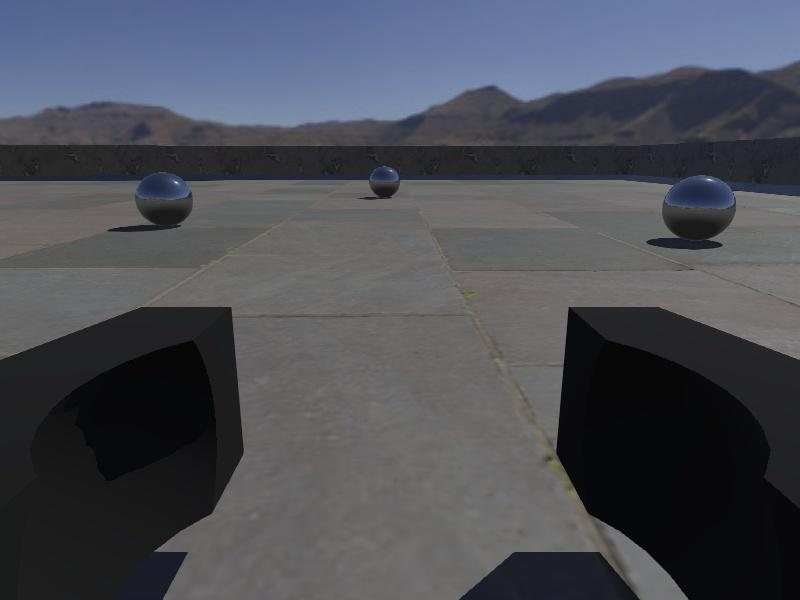steel ball: (662, 174, 738, 242), (135, 171, 195, 228), (368, 165, 401, 198)
